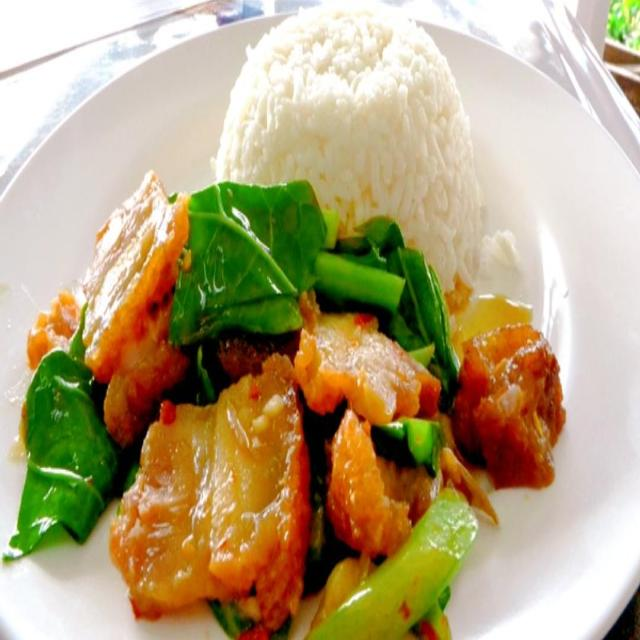carb: (217, 5, 484, 289)
meat: (82, 173, 424, 632), (454, 327, 565, 486), (217, 333, 301, 383), (27, 293, 81, 370)
vegetable: (170, 183, 460, 397), (9, 342, 120, 557), (314, 497, 479, 638), (387, 417, 442, 470)
